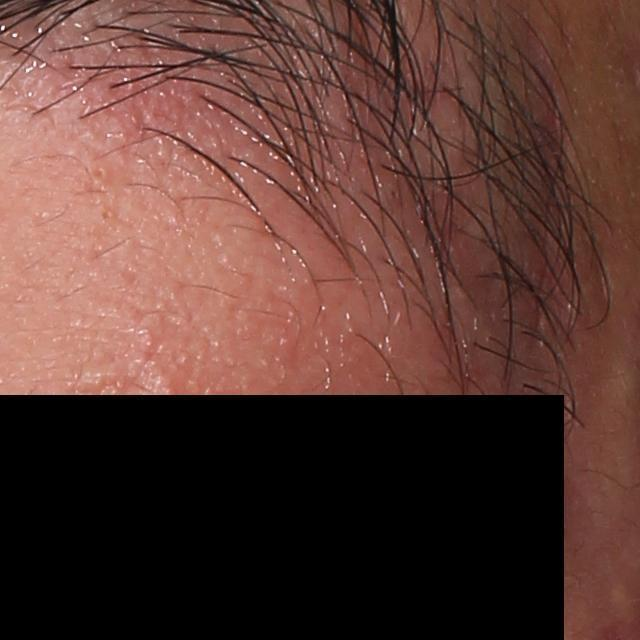comedo: (88, 202, 115, 227), (89, 163, 116, 186)
